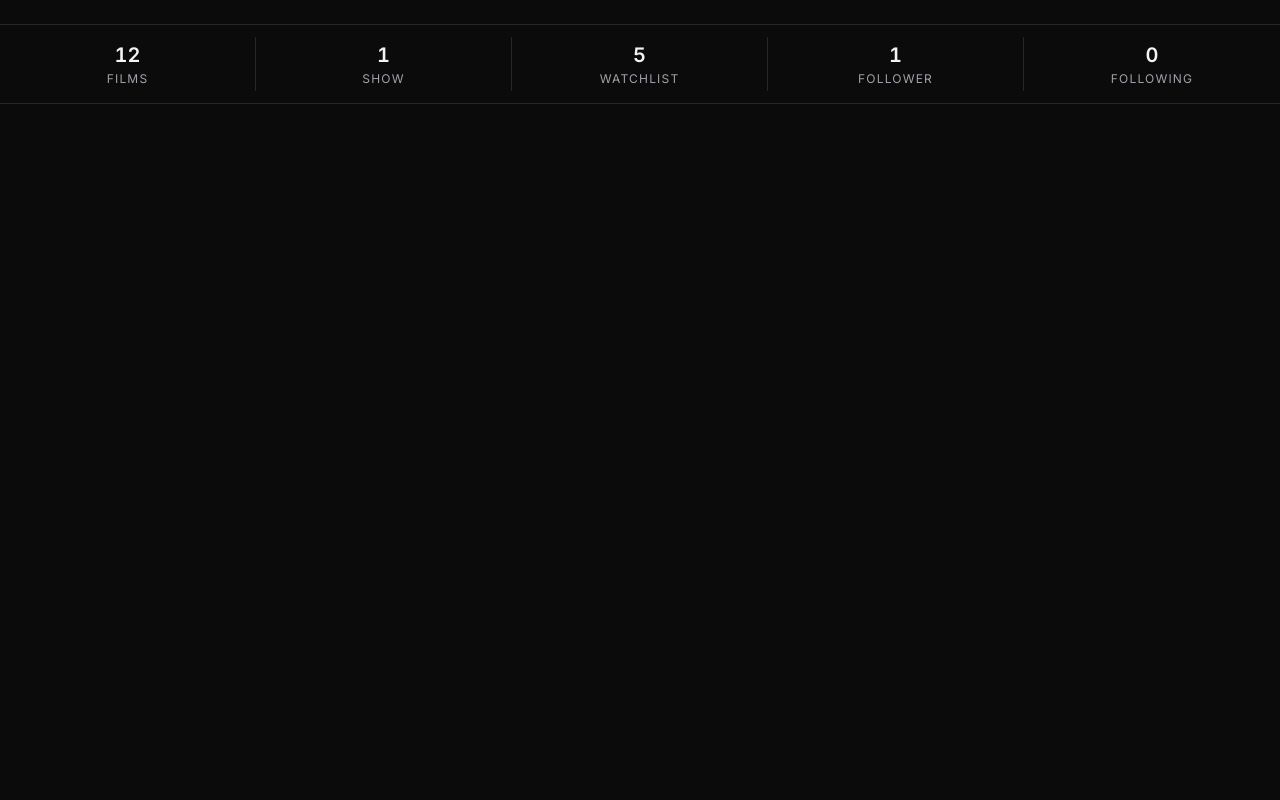
ProfileStats › shows an error when the list fails to load
This screenshot has width=1280, height=800.
Click the button "1 Follower" at point(896, 64), box [772,37,1019,91]
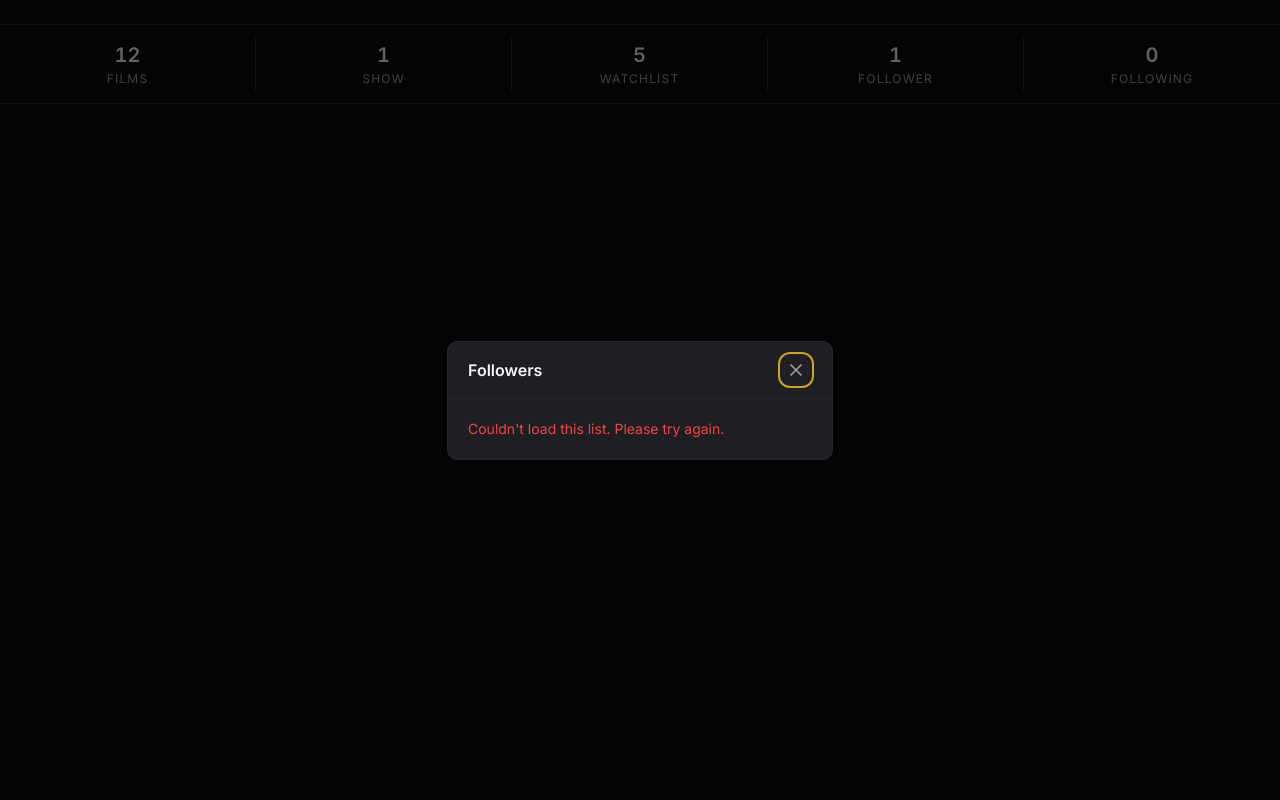
expect the message shows "Couldn't load this list.": met, box [468,420,724,436]
